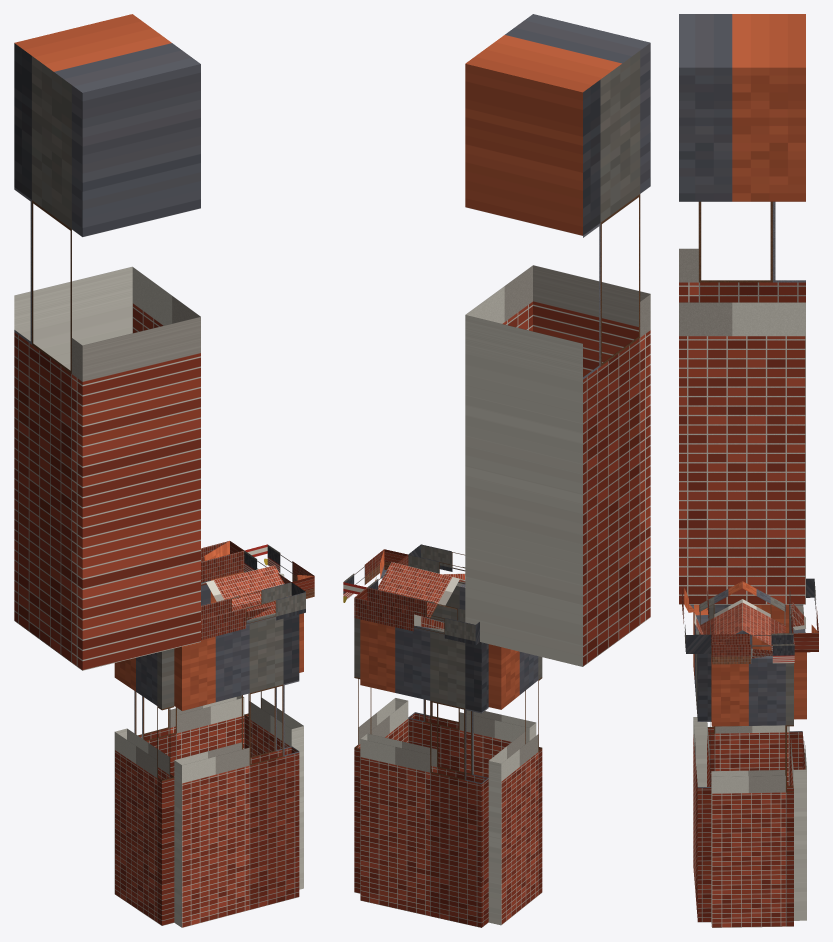
3 views of the same model, side by side, from view 1: azimuth 30°, elevation 25°; view 2: azimuth 150°, elevation 25°; view 3: azimuth 270°, elevation 25° (orthographic). The views are drawn at different scales.
Parts seen in each view (by area): view 1: 1106965490__chimney_0_xb, 1106965490__wall_0_xb, 1106965490__wall_1_xb, 1106965490__wall_2_xb, 1106965490__wall_3_xb, 1106965490__cornice_0, 1106965490_roof_-1_xb, 1106965490__cornice_2, 1106965490__cornice_3; view 2: 1106965490__chimney_0_xb, 1106965490__wall_2_xb, 1106965490__wall_1_xb, 1106965490__wall_0_xb, 1106965490__cornice_2, 1106965490__wall_3_xb, 1106965490_roof_1_xb, 1106965490__cornice_3, 1106965490__cornice_0; view 3: 1106965490__chimney_0_xb, 1106965490__wall_3_xb, 1106965490__wall_0_xb, 1106965490__wall_1_xb, 1106965490__wall_2_xb, 1106965490__cornice_3, 1106965490_roof_1_xb, 1106965490_roof_-1_xb, 1106965490__cornice_2, 1106965490__cornice_0.
Part boxes in pixels (x1,y1,x2,y2): 1106965490__chimney_0_xb: [14, 14, 200, 670]; 1106965490__wall_0_xb: [174, 613, 299, 927]; 1106965490__wall_1_xb: [114, 648, 174, 925]; 1106965490__wall_2_xb: [134, 571, 244, 776]; 1106965490__wall_3_xb: [244, 568, 303, 889]; 1106965490__cornice_0: [201, 582, 305, 640]; 1106965490_roof_-1_xb: [206, 565, 284, 619]; 1106965490__cornice_2: [201, 541, 244, 582]; 1106965490__cornice_3: [244, 544, 314, 598]; 1106965490__chimney_0_xb: [465, 14, 650, 666]; 1106965490__wall_2_xb: [360, 619, 488, 927]; 1106965490__wall_1_xb: [488, 644, 542, 925]; 1106965490__wall_0_xb: [408, 581, 536, 777]; 1106965490__cornice_2: [354, 587, 479, 645]; 1106965490__wall_3_xb: [354, 618, 408, 893]; 1106965490_roof_1_xb: [378, 562, 459, 621]; 1106965490__cornice_3: [343, 549, 408, 602]; 1106965490__cornice_0: [408, 544, 465, 584]; 1106965490__chimney_0_xb: [679, 14, 805, 604]; 1106965490__wall_3_xb: [711, 655, 793, 927]; 1106965490__wall_0_xb: [693, 604, 711, 922]; 1106965490__wall_1_xb: [708, 604, 789, 785]; 1106965490__wall_2_xb: [789, 604, 806, 920]; 1106965490__cornice_3: [711, 633, 794, 664]; 1106965490_roof_1_xb: [742, 581, 785, 645]; 1106965490_roof_-1_xb: [699, 581, 742, 644]; 1106965490__cornice_2: [789, 578, 818, 652]; 1106965490__cornice_0: [682, 587, 711, 653].
Size of the model in its own units: 0.3172 by 1.05 by 0.1653.
Materials: 1 (1 with a texture image).
